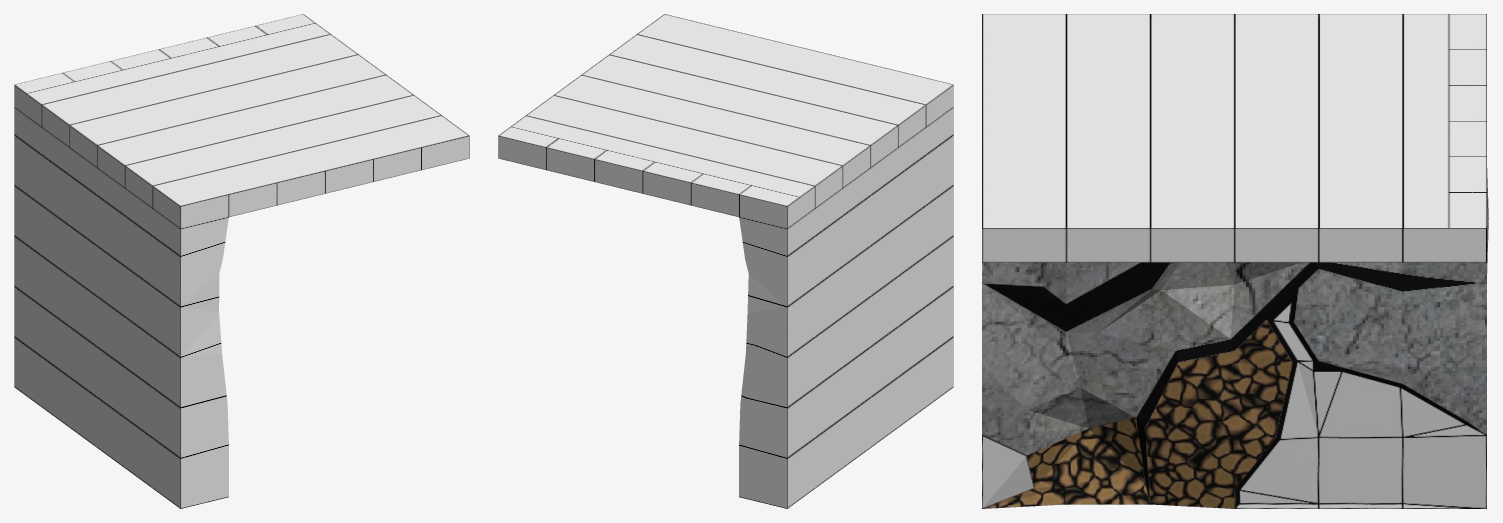
The model's file is EspacioPirateriaParedInteriorBajoNI.gltf.
3 renders of one model, left to right at view 1: azimuth 30°, elevation 25°; view 2: azimuth 150°, elevation 25°; view 3: azimuth 270°, elevation 25°, orthographic. The views are drawn at different scales.
Parts seen in each view (by area): view 1: Cubo.37; view 2: Cubo.37; view 3: Cubo.37.
Boxes of the visible parts, bbox=[...] form: Cubo.37: bbox=[14, 14, 469, 508]; Cubo.37: bbox=[498, 14, 953, 508]; Cubo.37: bbox=[982, 14, 1488, 508].
Bounding box in the file's own units: 2 × 2 × 2.
Materials: 1 (1 with a texture image).
